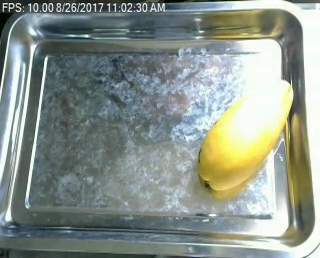Mango: (191, 74, 305, 185)
